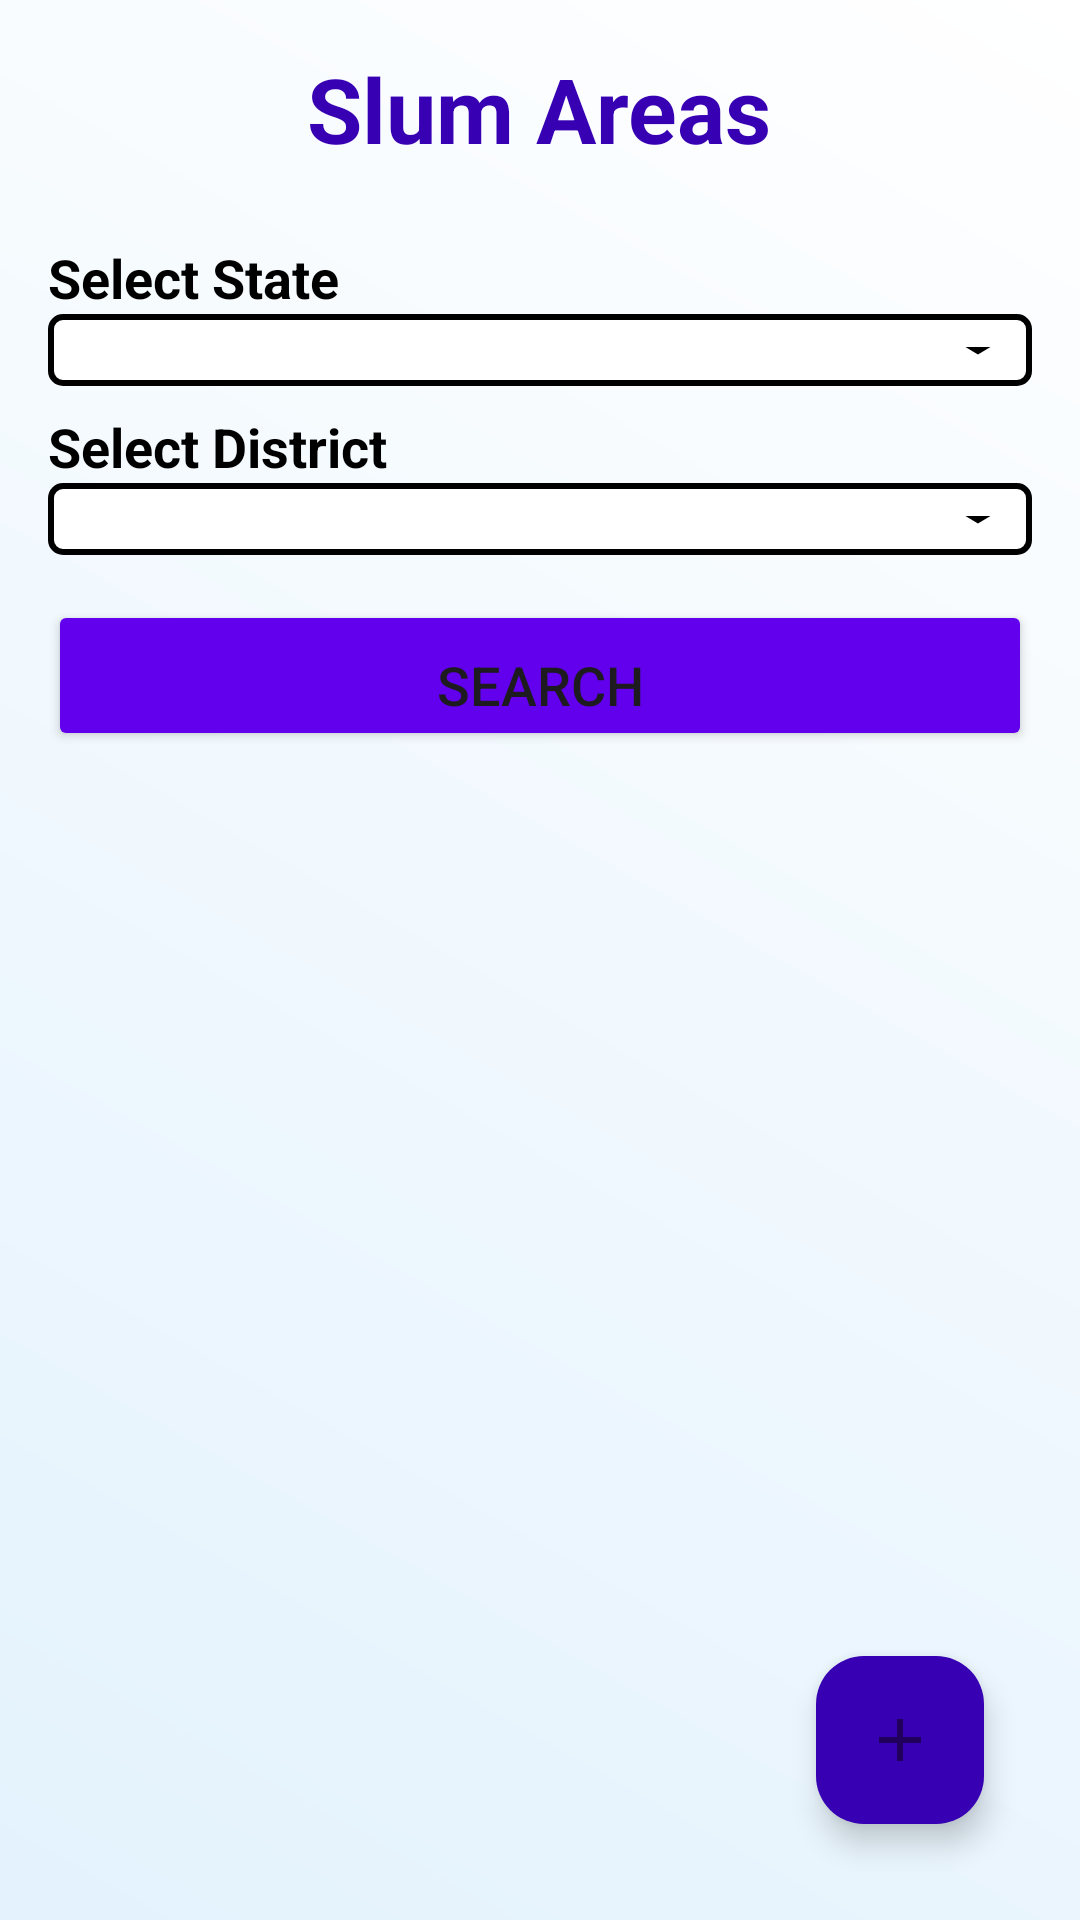

Screen size 1080*1920. Icon name, then its box in pixels as region(x1, y1, x2, y2):
Add: region(816, 1656, 984, 1824)
